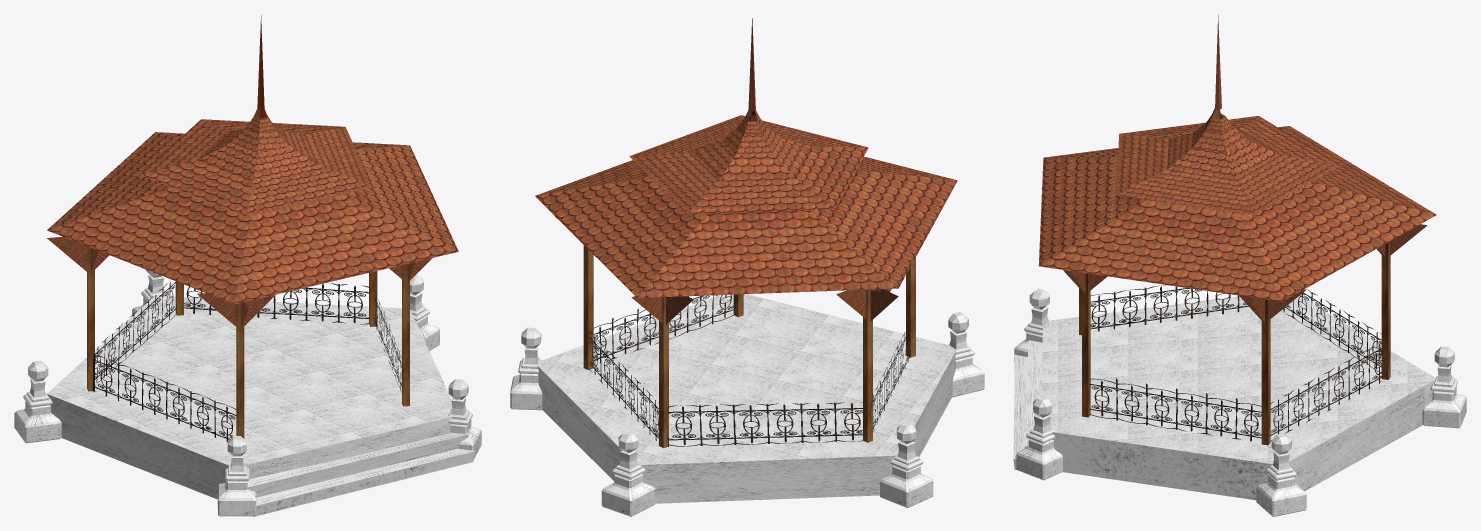
The model's file is Kiosko.obj.
3 views of the same model, side by side, from view 1: azimuth 30°, elevation 25°; view 2: azimuth 150°, elevation 25°; view 3: azimuth 270°, elevation 25° (orthographic). The views are drawn at different scales.
Parts seen in each view (by area): view 1: Kiosko_Material.008, Kiosko_Material.007, Kiosko_Material.004, Kiosko_Material.009; view 2: Kiosko_Material.008, Kiosko_Material.007, Kiosko_Material.004, Kiosko_Material.009; view 3: Kiosko_Material.008, Kiosko_Material.007, Kiosko_Material.004, Kiosko_Material.009.
Part boxes in pixels (<box>): Kiosko_Material.008: <box>14,269,481,516</box>; Kiosko_Material.007: <box>47,15,458,328</box>; Kiosko_Material.004: <box>92,281,401,442</box>; Kiosko_Material.009: <box>87,247,409,438</box>; Kiosko_Material.008: <box>510,294,984,516</box>; Kiosko_Material.007: <box>535,18,957,324</box>; Kiosko_Material.004: <box>589,294,910,446</box>; Kiosko_Material.009: <box>583,245,915,448</box>; Kiosko_Material.008: <box>1013,288,1466,516</box>; Kiosko_Material.007: <box>1039,14,1436,322</box>; Kiosko_Material.004: <box>1089,285,1386,441</box>; Kiosko_Material.009: <box>1079,241,1390,445</box>.
Size of the model in its own units: 17 by 15.84 by 16.11.
4 materials, 4 textured.
